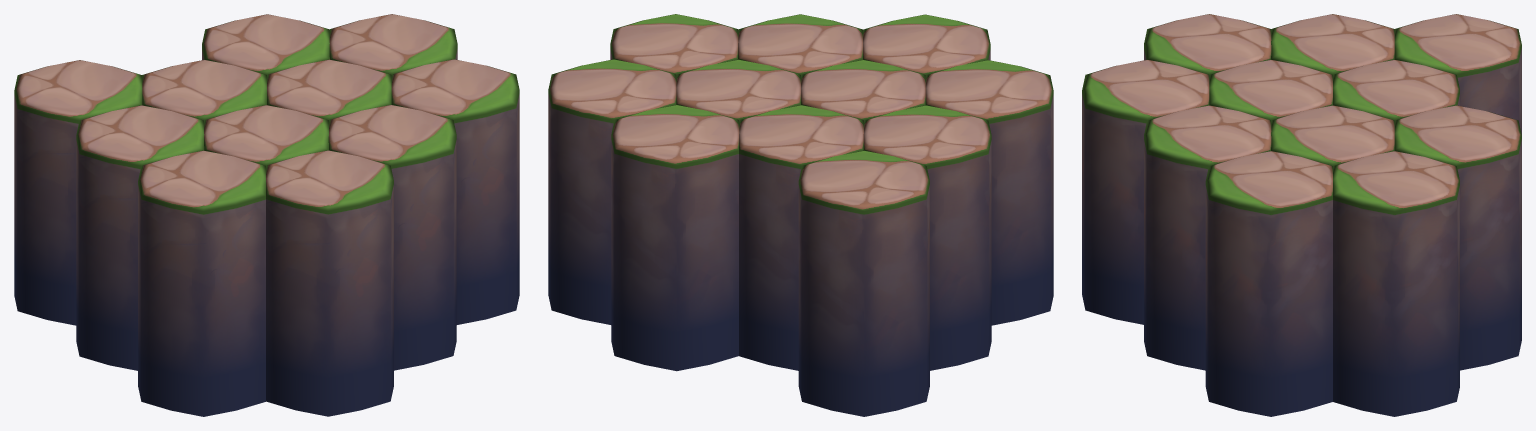
The model's file is Hexagon.fbx.
3 views of the same model, side by side, from view 1: azimuth 30°, elevation 25°; view 2: azimuth 150°, elevation 25°; view 3: azimuth 270°, elevation 25° (orthographic).
Visible parts, largest first — view 1: S_HexagonIntersection_05.009, S_HexagonIntersection_05.008, S_HexagonIntersection_05.002, S_HexagonIntersection_05.006, S_HexagonIntersection_05.010, S_HexagonIntersection_05.007, S_HexagonIntersection_05, S_HexagonIntersection_05.003, S_HexagonIntersection_05.004, S_HexagonIntersection_05.005, S_HexagonIntersection_05.001; view 2: S_HexagonIntersection_05.010, S_HexagonIntersection_05.003, S_HexagonIntersection_05, S_HexagonIntersection_05.008, S_HexagonIntersection_05.007, S_HexagonIntersection_05.004, S_HexagonIntersection_05.002, S_HexagonIntersection_05.009, S_HexagonIntersection_05.006, S_HexagonIntersection_05.005, S_HexagonIntersection_05.001; view 3: S_HexagonIntersection_05.002, S_HexagonIntersection_05, S_HexagonIntersection_05.003, S_HexagonIntersection_05.009, S_HexagonIntersection_05.006, S_HexagonIntersection_05.010, S_HexagonIntersection_05.008, S_HexagonIntersection_05.004, S_HexagonIntersection_05.007, S_HexagonIntersection_05.001, S_HexagonIntersection_05.005.
Part boxes in pixels (x1,y1,x2,y2): S_HexagonIntersection_05.009: (266,150,393,416); S_HexagonIntersection_05.008: (138,150,265,416); S_HexagonIntersection_05.002: (391,59,519,324); S_HexagonIntersection_05.006: (328,105,456,370); S_HexagonIntersection_05.010: (14,60,142,325); S_HexagonIntersection_05.007: (76,105,204,370); S_HexagonIntersection_05: (329,14,457,74); S_HexagonIntersection_05.003: (202,14,329,74); S_HexagonIntersection_05.004: (142,59,266,120); S_HexagonIntersection_05.005: (204,105,328,165); S_HexagonIntersection_05.001: (267,59,391,119); S_HexagonIntersection_05.010: (798,150,929,416); S_HexagonIntersection_05.003: (611,105,739,371); S_HexagonIntersection_05: (548,59,676,324); S_HexagonIntersection_05.008: (925,60,1053,325); S_HexagonIntersection_05.007: (863,105,991,370); S_HexagonIntersection_05.004: (739,105,863,370); S_HexagonIntersection_05.002: (610,14,738,74); S_HexagonIntersection_05.009: (863,14,990,74); S_HexagonIntersection_05.006: (738,14,862,74); S_HexagonIntersection_05.005: (801,59,925,120); S_HexagonIntersection_05.001: (676,59,800,119); S_HexagonIntersection_05.002: (1205,151,1332,416); S_HexagonIntersection_05: (1333,151,1459,416); S_HexagonIntersection_05.003: (1394,105,1521,370); S_HexagonIntersection_05.009: (1082,59,1209,324); S_HexagonIntersection_05.006: (1144,105,1271,370); S_HexagonIntersection_05.010: (1394,14,1521,135); S_HexagonIntersection_05.008: (1144,14,1271,74); S_HexagonIntersection_05.004: (1333,59,1459,120); S_HexagonIntersection_05.007: (1271,14,1394,74); S_HexagonIntersection_05.001: (1271,105,1394,165); S_HexagonIntersection_05.005: (1209,59,1332,120).
Size of the model in its own units: 606 by 299 by 570.
